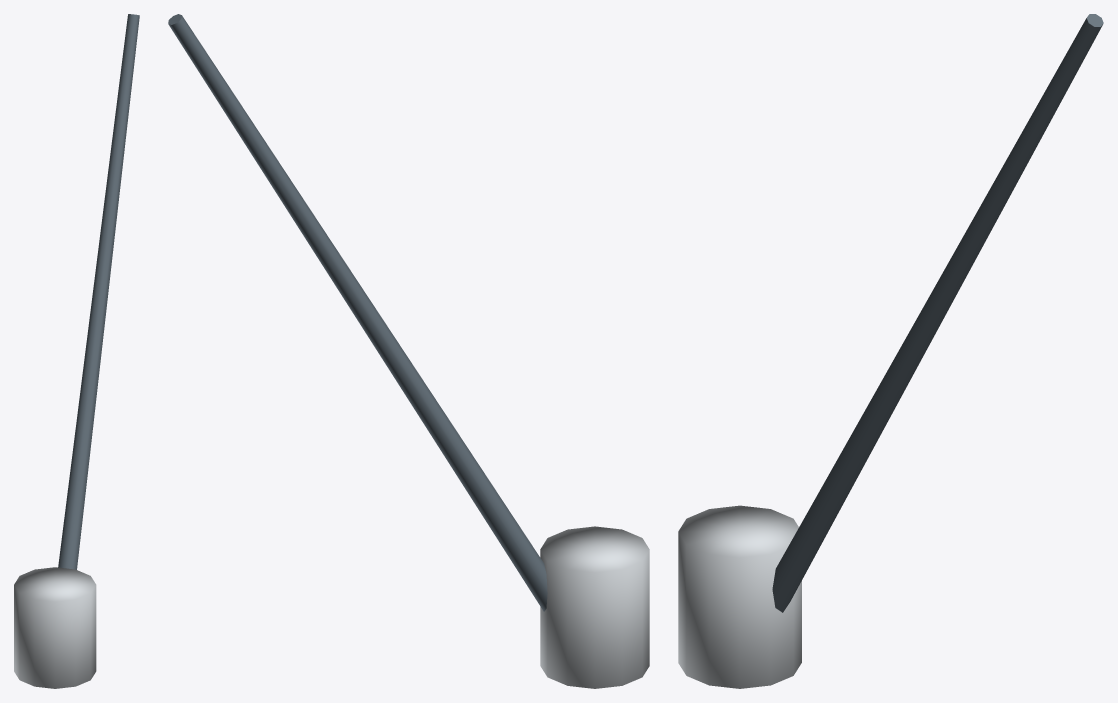
Rendered from eagle_antennas.vhf_01.glb.
3 views of the same model, side by side, from view 1: azimuth 30°, elevation 25°; view 2: azimuth 150°, elevation 25°; view 3: azimuth 270°, elevation 25° (orthographic). The views are drawn at different scales.
Parts seen in each view (by area): view 1: eagle_antennas.vhf_01.mesh; view 2: eagle_antennas.vhf_01.mesh; view 3: eagle_antennas.vhf_01.mesh.
Boxes of the visible parts, x1,y1,x2,y2 form: eagle_antennas.vhf_01.mesh: (14,14,139,688); eagle_antennas.vhf_01.mesh: (168,14,649,688); eagle_antennas.vhf_01.mesh: (678,14,1103,688).
Bounding box in the file's own units: 0.3136 × 0.6694 × 0.3235.
